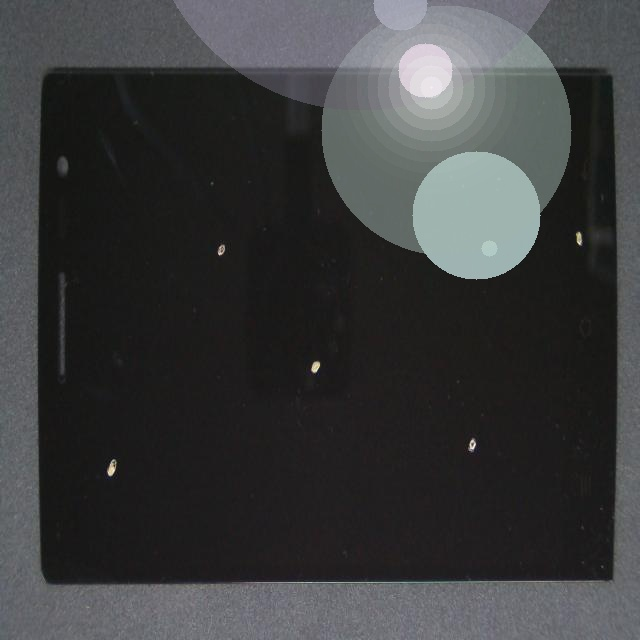stain: (214, 176, 640, 640), (121, 173, 462, 586), (261, 107, 640, 395), (71, 109, 313, 409), (19, 225, 158, 640)
